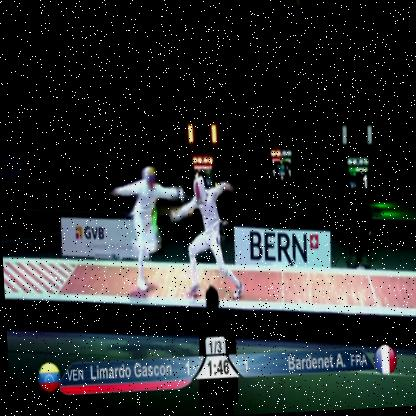fencer: (167, 171, 250, 310), (106, 163, 192, 293)
referee: (187, 285, 252, 414)
